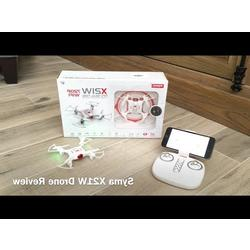drone: (46, 135, 106, 170), (59, 98, 113, 126), (116, 90, 157, 125)
